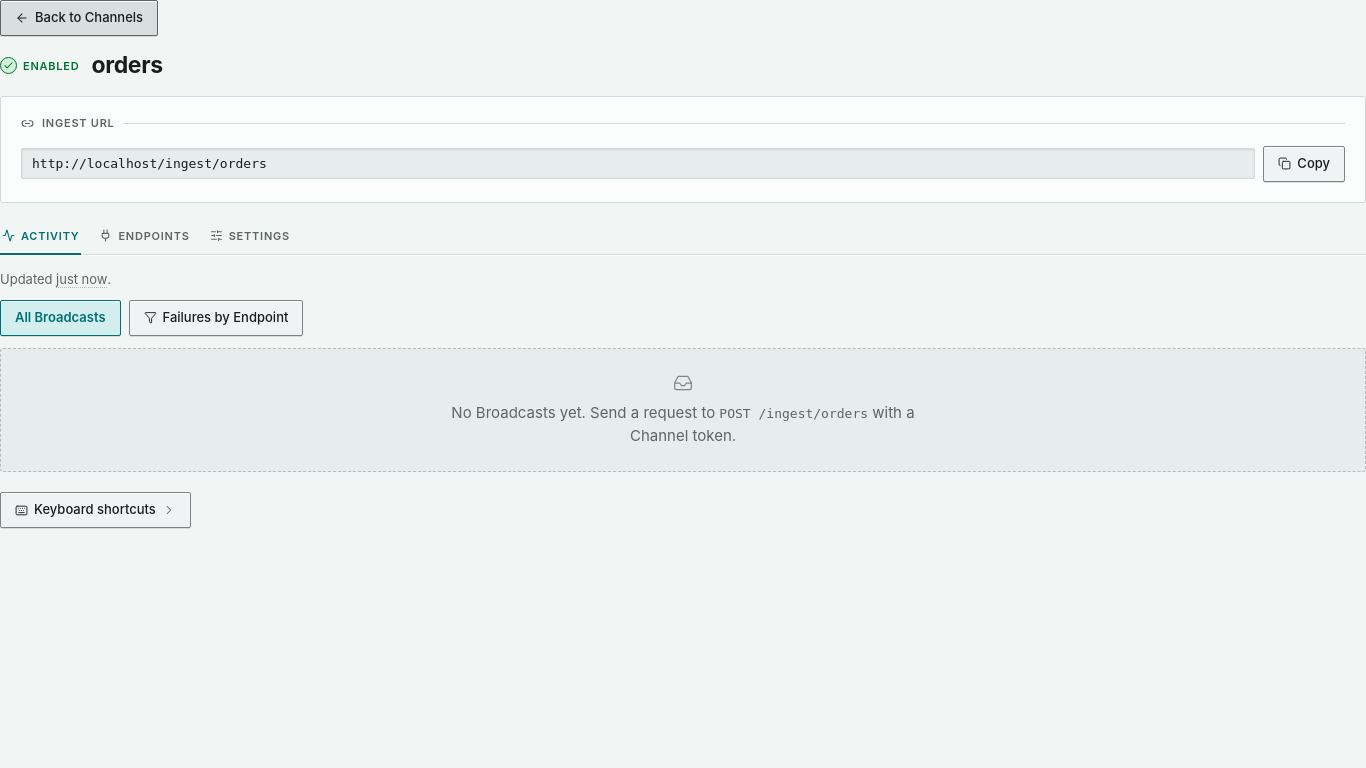
Test case: ChannelDetailPage — Activity tab and ingest tokens › opens the tokens panel without a second getChannel request (issue #51)
Check: the heading "orders" is shown, box [92,52,163,80]
Click the link "Settings" at (250, 236), box [210,229,290,243]
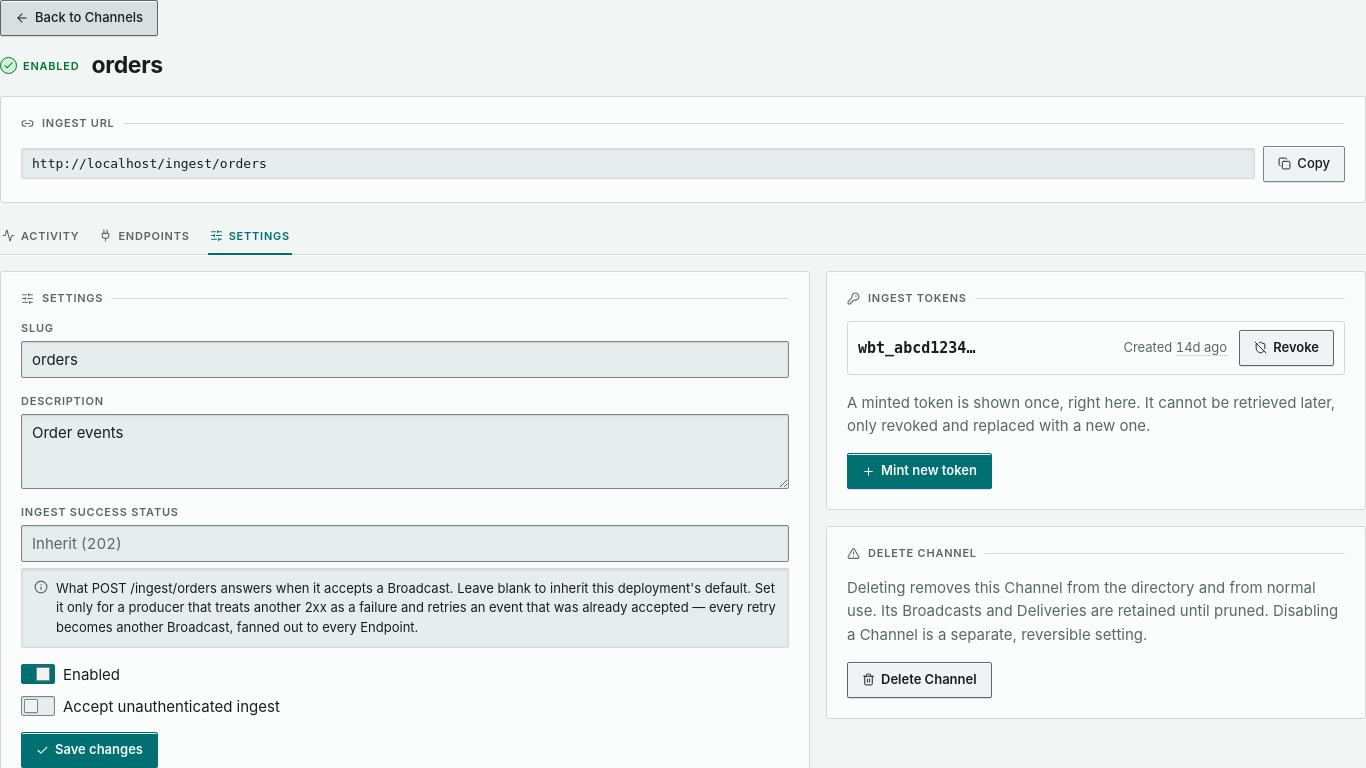
Check: the text "wbt_abcd1234…" is shown, box [858,339,975,357]
